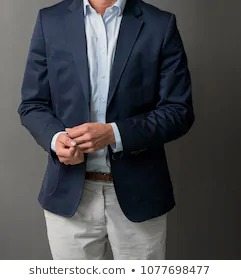F_M_suit jacket: (15, 1, 197, 223)
